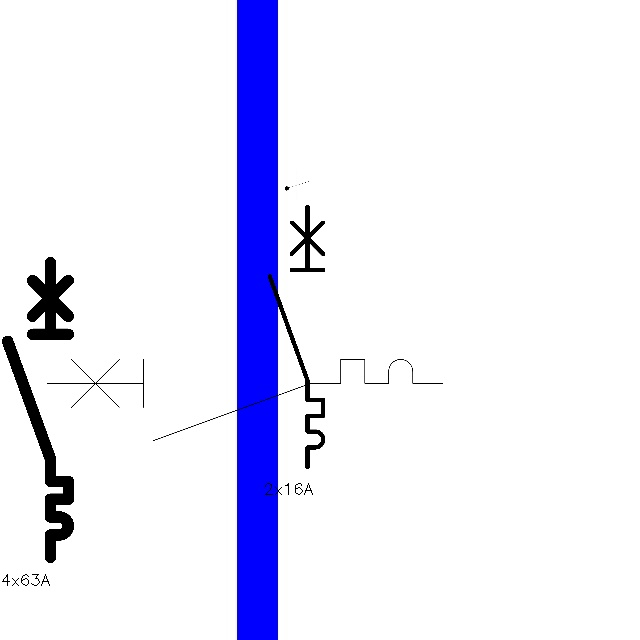interruptor_termomagnetico: (37, 349, 453, 451), (0, 255, 76, 565), (263, 199, 330, 473)
